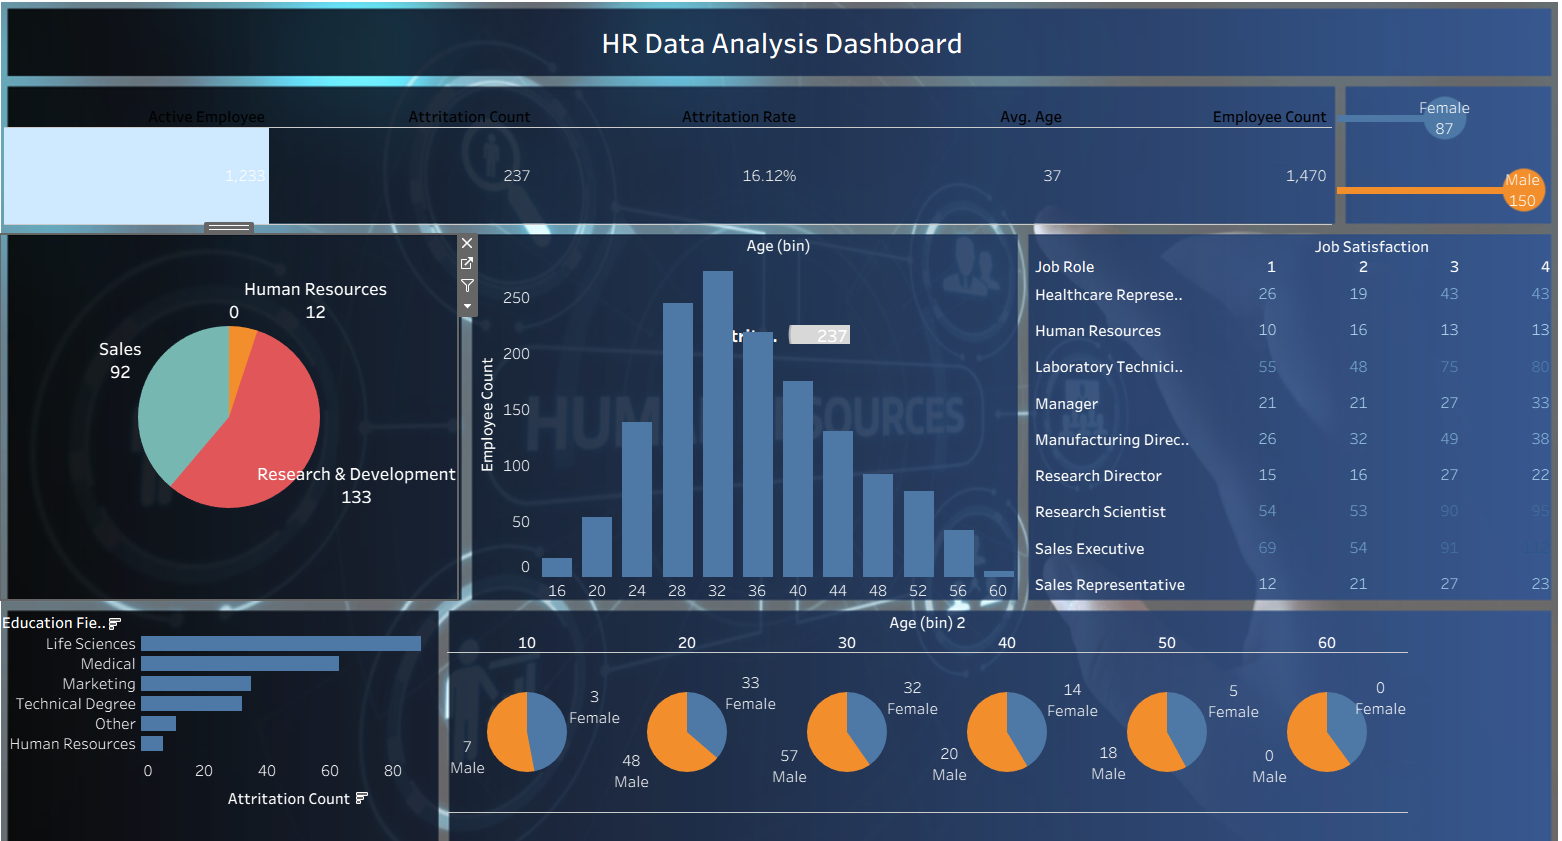

The page's visual inventory and layout, read from the dashboard file:
{"tool":"tableau","page":{"name":"Dashboard 1","canvas":[1600,900],"ordinal":0},"visuals":[{"type":"image","param":"Image/HR background.pptx.png","box":[8,8,1584,884]},{"type":"text","box":[34,35,1536,35]},{"type":"worksheet","title":"Attritation Count by Gender","mark":"Automatic","rows":["Gender","Gender"],"cols":["Calculation_1124536160043008","Calculation_1124536160043008"],"box":[1357,92,218,144]},{"type":"worksheet","title":"Sheet 1","mark":"Automatic","box":[24,97,1328,138]},{"type":"worksheet","title":"Department VS Attritation Count","mark":"Pie","box":[21,245,456,364]},{"type":"worksheet","title":"No of Employe by age","mark":"Automatic","rows":["EmployeeCount"],"cols":["Age (bin)"],"box":[489,245,550,367]},{"type":"worksheet","title":"Job Satisfication Vs Role","mark":"Automatic","rows":["JobRole"],"cols":["JobSatisfaction"],"box":[1049,246,525,366]},{"type":"legend","title":"Department VS Attritation Count","param":"[federated.1rbswyr024pzgy19t2vji0mg85nf].[sum:Calculation_1124536160043008:qk]","box":[732,333,140,43]},{"type":"worksheet","title":"Attritation Count vs Age Group by Gender","mark":"Pie","cols":["Age (bin) 2"],"box":[467,622,1104,267]},{"type":"worksheet","title":"Education Field wise Attritation","mark":"Automatic","rows":["EducationField"],"cols":["Calculation_1124536160043008"],"box":[21,623,436,224]}]}

Visuals, with their boxes on the page's 1600x900 design canvas (x1, y1, x2, y2). These are canvas units, not pixel positions in the 1562x841 screenshot, which may show the page scaled, cropped or inside an application window:
image: x1=8, y1=8, x2=1592, y2=892
text: x1=34, y1=35, x2=1570, y2=70
"Attritation Count by Gender" worksheet: x1=1357, y1=92, x2=1575, y2=236
"Sheet 1" worksheet: x1=24, y1=97, x2=1352, y2=235
"Department VS Attritation Count" worksheet (Pie marks): x1=21, y1=245, x2=477, y2=609
"No of Employe by age" worksheet: x1=489, y1=245, x2=1039, y2=612
"Job Satisfication Vs Role" worksheet: x1=1049, y1=246, x2=1574, y2=612
"Department VS Attritation Count" legend: x1=732, y1=333, x2=872, y2=376
"Attritation Count vs Age Group by Gender" worksheet (Pie marks): x1=467, y1=622, x2=1571, y2=889
"Education Field wise Attritation" worksheet: x1=21, y1=623, x2=457, y2=847
